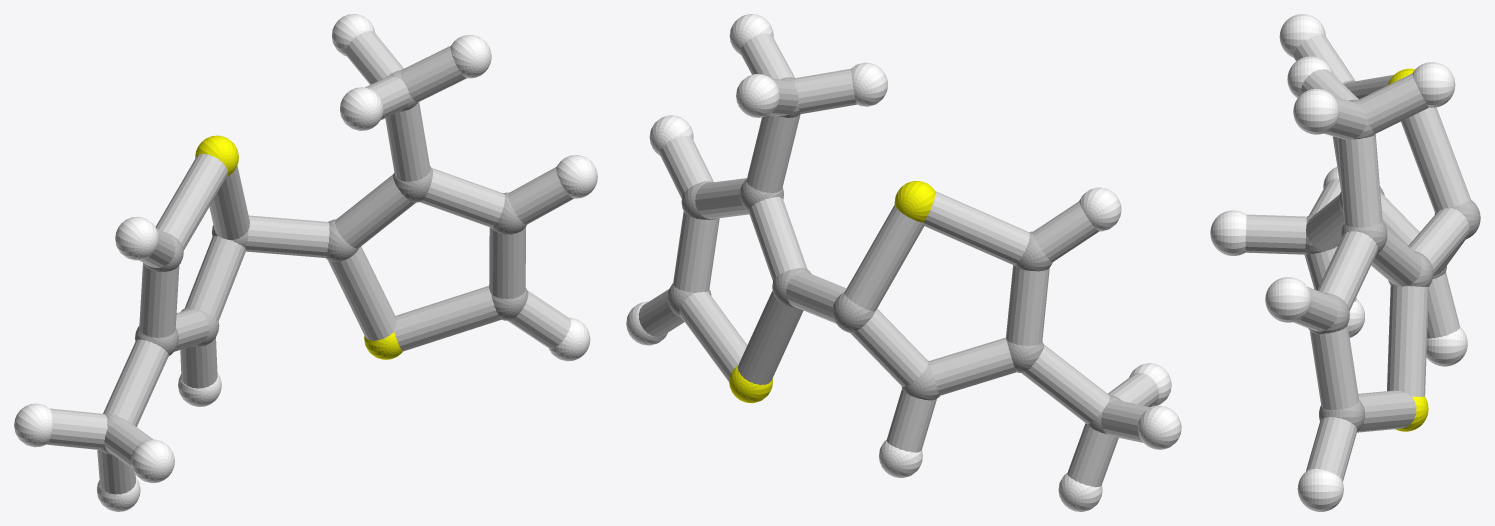
Rendered from Methylthiophene_Phi_60_Theta_10_Methylthiophene.glb.
The picture shows the model from 3 angles, left to right: view 1: azimuth 30°, elevation 25°; view 2: azimuth 150°, elevation 25°; view 3: azimuth 270°, elevation 25°; orthographic projection. The views are drawn at different scales.
Parts seen in each view (by area): view 1: grp7965, grp3621, grp1, grp7241; view 2: grp7965, grp3621, grp1, grp7241; view 3: grp7965, grp3621, grp1, grp7241.
Part boxes in pixels (x1,y1,x2,y2): grp7965: (47,31,573,494); grp3621: (14,14,597,511); grp1: (101,70,528,454); grp7241: (195,135,402,359); grp7965: (638,33,1158,487); grp3621: (626,14,1181,511); grp1: (667,77,1122,434); grp7241: (729,181,935,403); grp7965: (1245,34,1470,481); grp3621: (1210,14,1467,511); grp1: (1305,80,1480,431); grp7241: (1388,68,1428,431).
Bounding box in the file's own units: 8.82 × 6.03 × 3.51.
